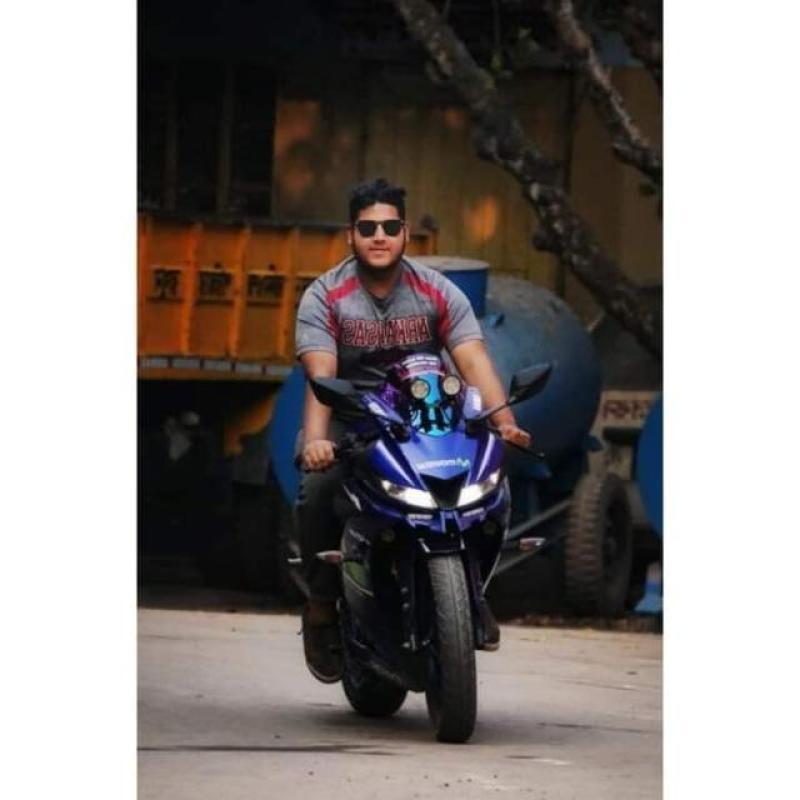nohelmet: (340, 176, 422, 270)
